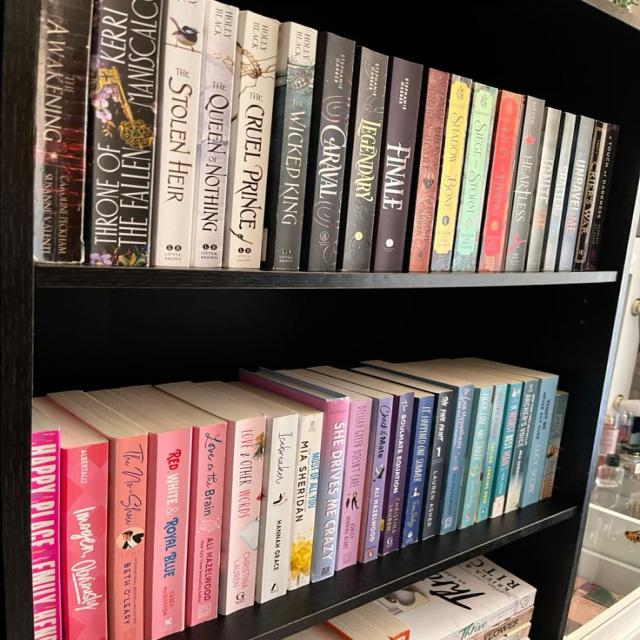book: (86, 0, 164, 267), (34, 0, 92, 263), (223, 11, 279, 269), (151, 0, 205, 267), (190, 0, 238, 267), (267, 22, 317, 269), (307, 33, 355, 271), (372, 58, 423, 271), (343, 48, 388, 270), (450, 83, 497, 271), (64, 448, 107, 640), (478, 92, 523, 272), (409, 69, 449, 271), (430, 76, 471, 271), (308, 398, 350, 581), (228, 417, 266, 614), (257, 413, 296, 603), (503, 97, 544, 271), (30, 419, 61, 639), (573, 122, 617, 270), (112, 438, 144, 640), (154, 432, 184, 632), (289, 412, 322, 590), (337, 400, 371, 572), (558, 117, 596, 270), (381, 390, 414, 554), (527, 108, 560, 271), (363, 398, 395, 564), (421, 389, 456, 538), (543, 113, 576, 271), (403, 394, 436, 549), (444, 384, 476, 534), (460, 385, 493, 528), (197, 425, 220, 620), (504, 379, 537, 513), (525, 377, 557, 507), (478, 383, 507, 521), (493, 383, 522, 517)
